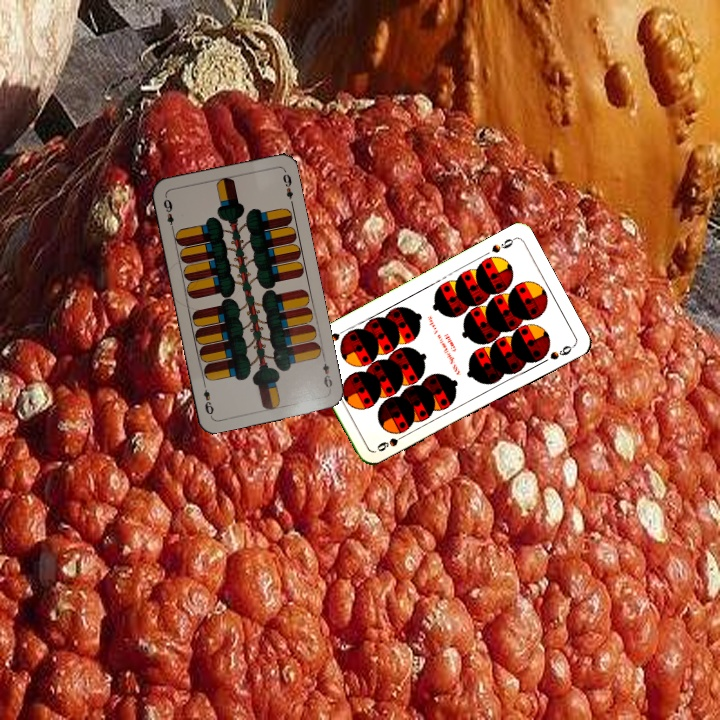E9: (159, 193, 176, 233), (318, 353, 335, 393)
S9: (372, 430, 410, 454), (487, 233, 518, 255)
